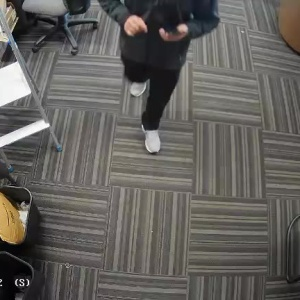person: (116, 0, 215, 152)
